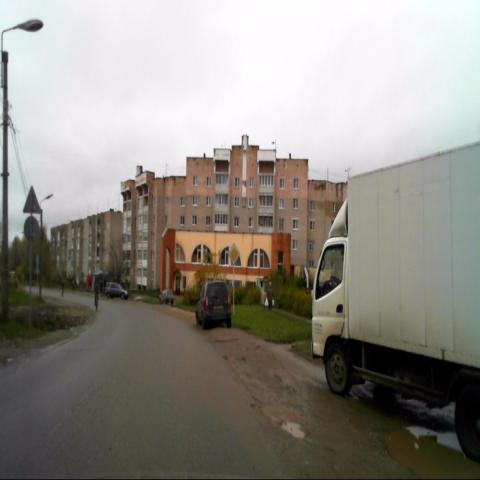2_1: (228, 241, 240, 266)
